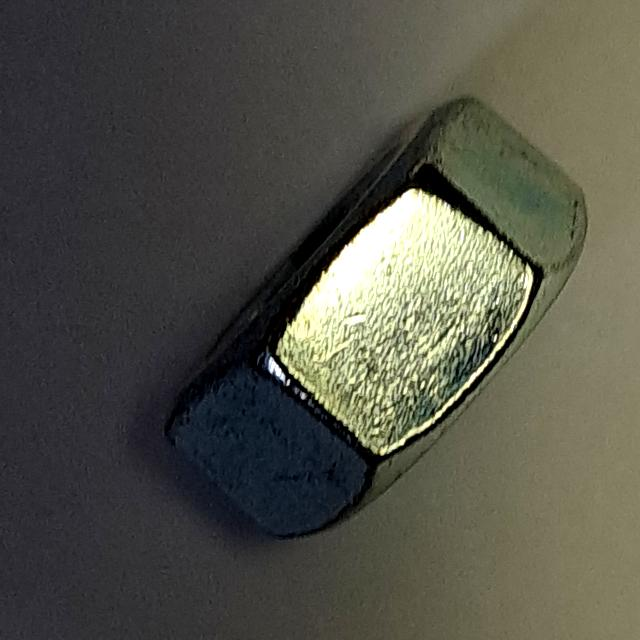Side_Excellent: (154, 83, 606, 559)
